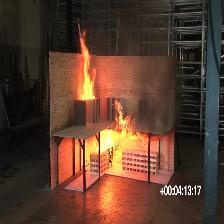fire: (69, 27, 111, 116), (92, 103, 143, 173)
